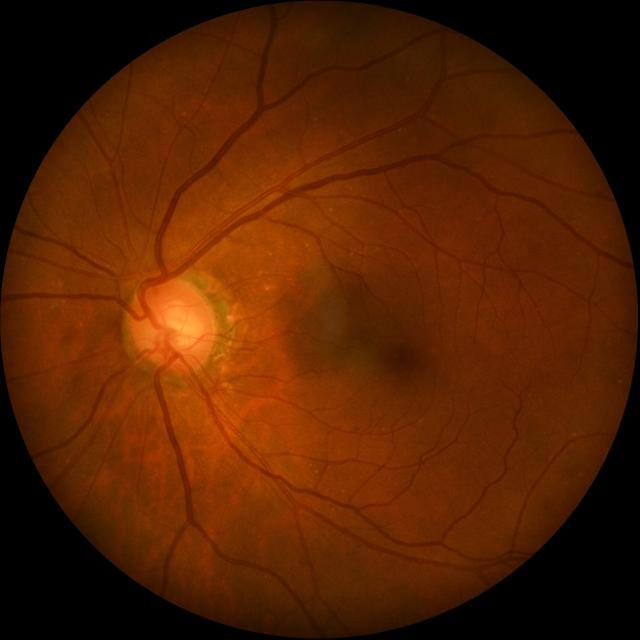OC: (157, 301, 200, 352)
OD: (127, 274, 216, 373)
